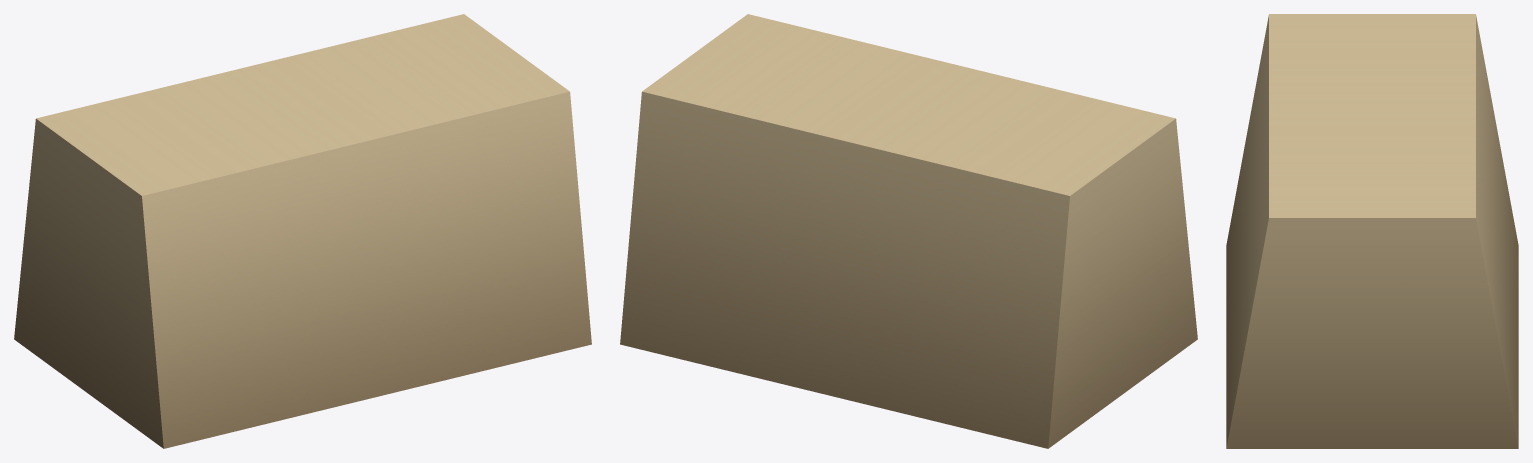
Rendered from SM_WallSide_Clay.fbx.
3 renders of one model, left to right at view 1: azimuth 30°, elevation 25°; view 2: azimuth 150°, elevation 25°; view 3: azimuth 270°, elevation 25°, orthographic. The views are drawn at different scales.
Visible parts, largest first — view 1: WallSide_Clay; view 2: WallSide_Clay; view 3: WallSide_Clay.
Boxes of the visible parts, box(x1,y1,x2,y2) form: WallSide_Clay: box(14, 14, 591, 448); WallSide_Clay: box(620, 14, 1197, 448); WallSide_Clay: box(1226, 14, 1518, 448).
Bounding box in the file's own units: 200 × 106 × 121.
